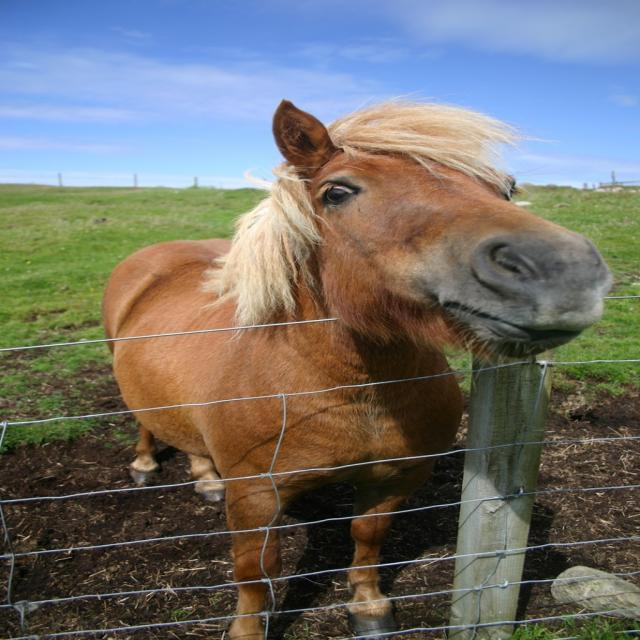Horse: (100, 90, 613, 640)
